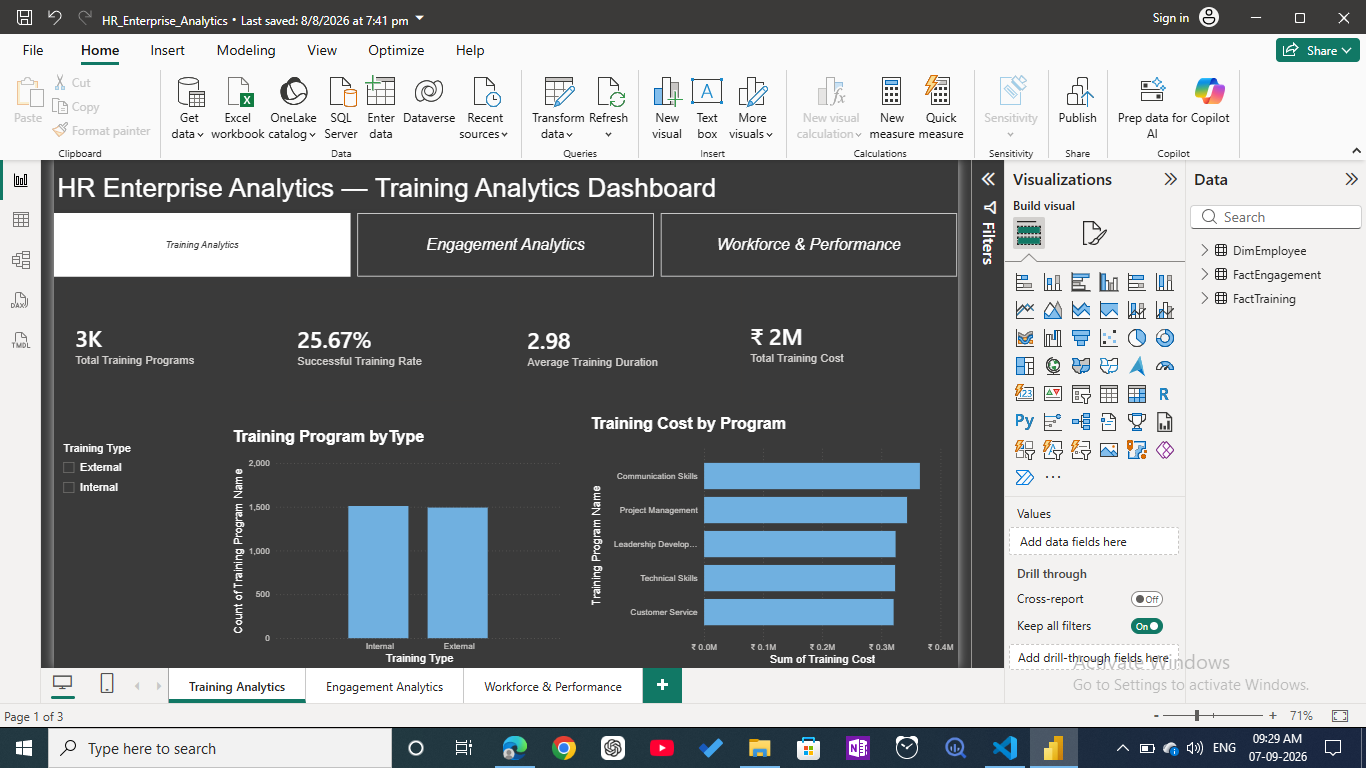

The page's visual inventory and layout, read from the dashboard file:
{"tool":"powerbi","page":{"name":"Training Analytics","canvas":[1280,720],"ordinal":0},"visuals":[{"type":"cardVisual","fields":{"Data":["DimEmployee.Total Training Programs"]},"box":[0,159.2,280.6,205.1],"z":0},{"type":"cardVisual","fields":{"Data":["FactEngagement.Successful Training Rate"]},"box":[315.1,165.7,301.9,193.6],"z":1000},{"type":"cardVisual","fields":{"Data":["FactEngagement.Average Training Duration"]},"box":[640,151,281,223],"z":2000},{"type":"cardVisual","fields":{"Data":["FactEngagement.Total Training Cost"]},"box":[956.7,151,280.6,211.7],"z":3000},{"type":"textbox","box":[0,13.1,1027.3,57.4],"z":4000},{"type":"clusteredColumnChart","title":"Training Program byType","fields":{"Category":["FactTraining.Training Type"],"Y":["CountNonNull(FactTraining.Training Program Name)"]},"box":[247.8,379.1,477.5,341.3],"z":5000},{"type":"clusteredBarChart","title":"Training Cost by Program","fields":{"Category":["FactTraining.Training Program Name"],"Y":["Sum(FactTraining.Training Cost)"]},"box":[754.9,359.4,525.1,361],"z":6000},{"type":"slicer","fields":{"Values":["FactTraining.Training Type"]},"box":[0,395.5,247.8,324.9],"z":7000},{"type":"pageNavigator","box":[0,75.5,1280,90.3],"z":8000}]}

Visuals, with their boxes on the page's 1280x720 design canvas (x1, y1, x2, y2). These are canvas units, not pixel positions in the 1366x768 screenshot, which may show the page scaled, cropped or inside an application window:
cardVisual - DimEmployee.Total Training Programs: left=0, top=159, right=281, bottom=364
cardVisual - FactEngagement.Successful Training Rate: left=315, top=166, right=617, bottom=359
cardVisual - FactEngagement.Average Training Duration: left=640, top=151, right=921, bottom=374
cardVisual - FactEngagement.Total Training Cost: left=957, top=151, right=1237, bottom=363
textbox: left=0, top=13, right=1027, bottom=70
"Training Program byType" clusteredColumnChart: left=248, top=379, right=725, bottom=720
"Training Cost by Program" clusteredBarChart: left=755, top=359, right=1280, bottom=720
slicer - FactTraining.Training Type: left=0, top=396, right=248, bottom=720
pageNavigator: left=0, top=76, right=1280, bottom=166
